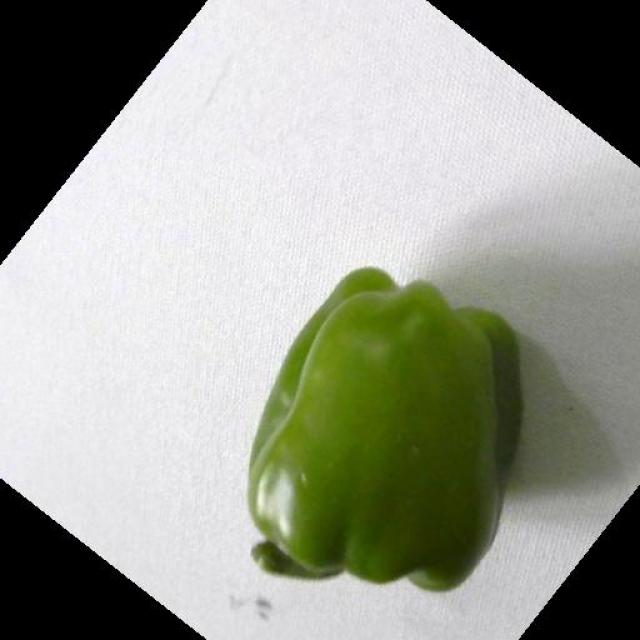Fresh_Capsicum: (286, 274, 524, 583)
